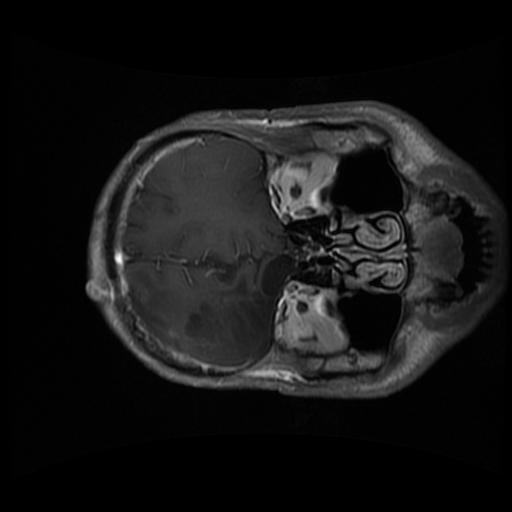glioma: (182, 252, 297, 363)
